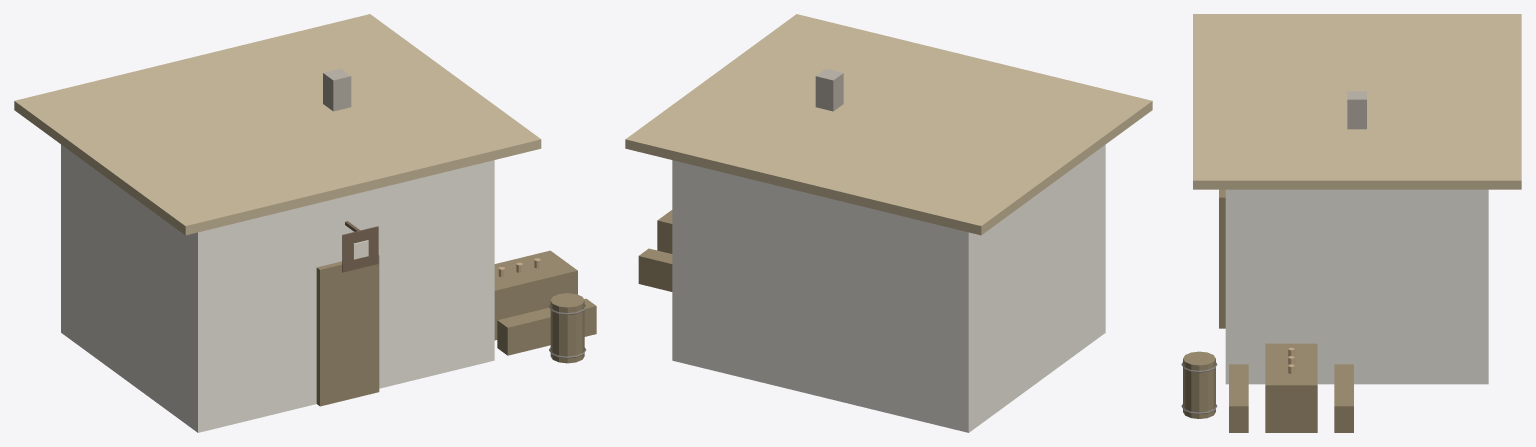
The model's file is Tavern_Steppe.fbx.
The picture shows the model from 3 angles, left to right: view 1: azimuth 30°, elevation 25°; view 2: azimuth 150°, elevation 25°; view 3: azimuth 270°, elevation 25°; orthographic projection. The views are drawn at different scales.
Visible parts, largest first — view 1: Tavern_Steppe_Mesh; view 2: Tavern_Steppe_Mesh; view 3: Tavern_Steppe_Mesh.
Boxes of the visible parts, left/top/right/bottom form: Tavern_Steppe_Mesh: left=14, top=14, right=596, bottom=432; Tavern_Steppe_Mesh: left=625, top=14, right=1152, bottom=432; Tavern_Steppe_Mesh: left=1181, top=14, right=1521, bottom=432.
Bounding box in the file's own units: 7.25 × 4.15 × 5.18.
